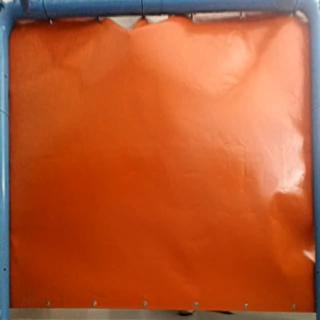Hit-hRxx: (122, 29, 138, 41)
